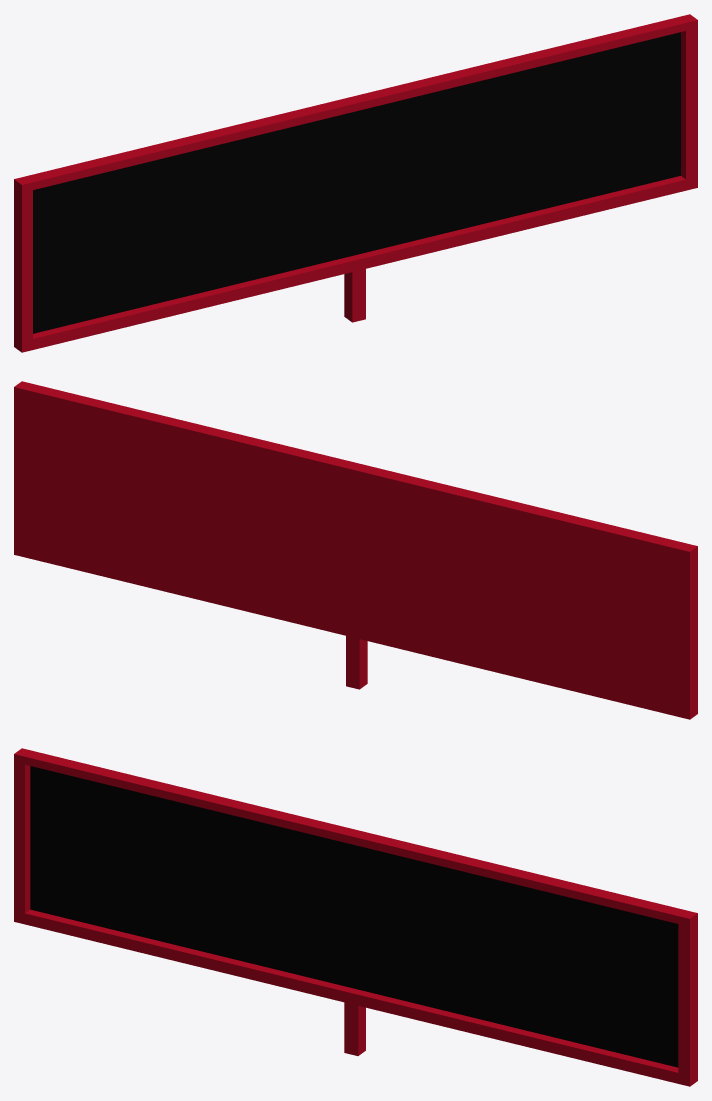
Rendered from SM_TrainSignBoard.fbx.
The picture shows the model from 3 angles, top to bottom: view 1: azimuth 30°, elevation 25°; view 2: azimuth 150°, elevation 25°; view 3: azimuth 330°, elevation 25°; orthographic projection.
Parts seen in each view (by area): view 1: TrainSignBoard; view 2: TrainSignBoard; view 3: TrainSignBoard.
Part boxes in pixels (left/top/right/bottom): TrainSignBoard: left=14, top=14, right=697, bottom=352; TrainSignBoard: left=14, top=381, right=697, bottom=719; TrainSignBoard: left=14, top=748, right=697, bottom=1086.
Bounding box in the file's own units: 646 × 199 × 13.16.
